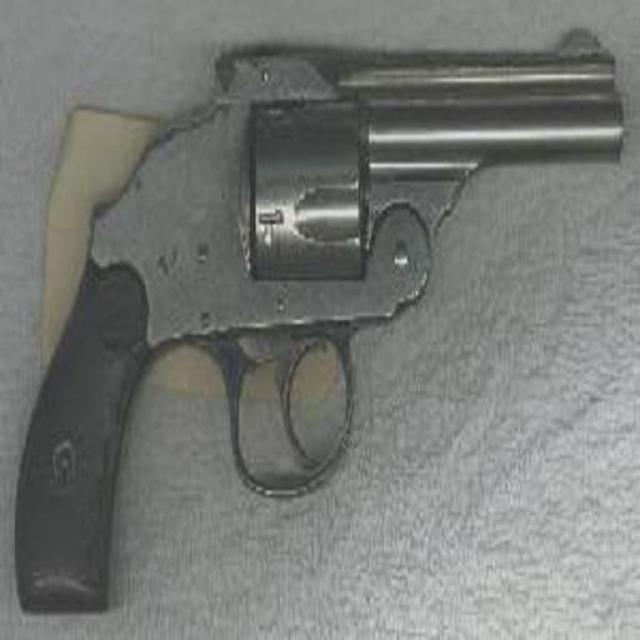pistol: (13, 27, 618, 615)
